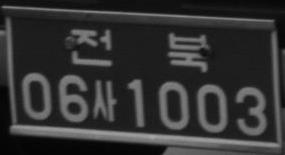0: (195, 83, 229, 133), (157, 80, 190, 131), (20, 71, 53, 120)
1: (123, 78, 152, 128)
3: (234, 85, 268, 136)
6: (57, 73, 88, 123)
사: (91, 78, 117, 122)
전북_D: (70, 27, 209, 73)
